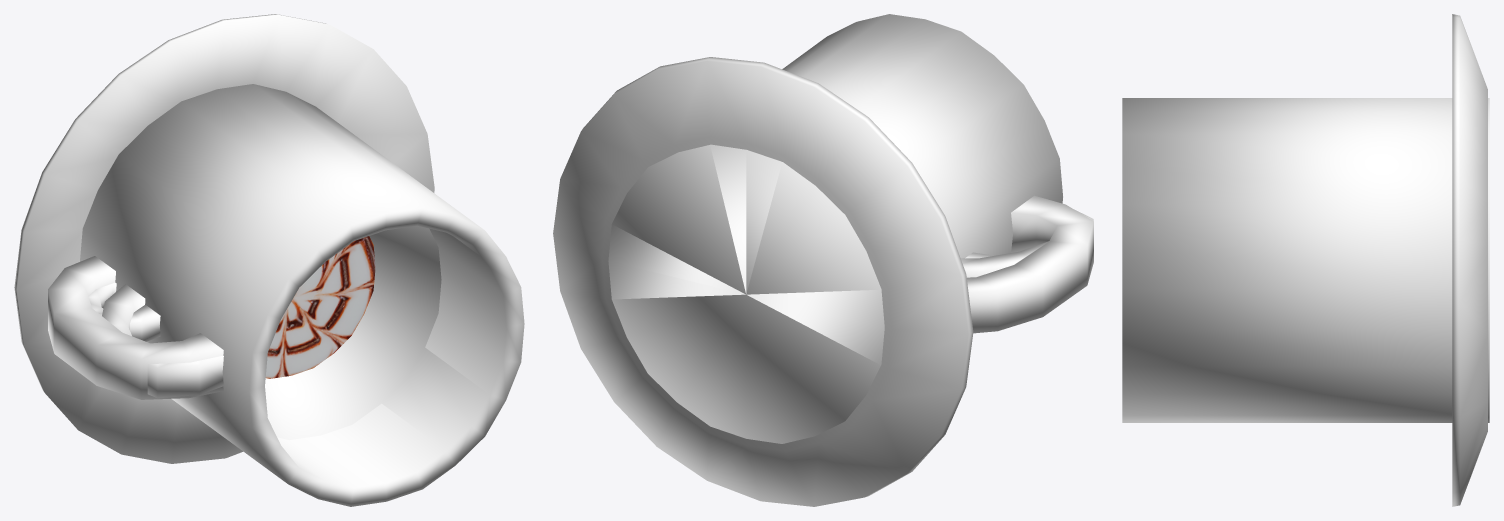
Rendered from coffee-cups-low-poly-e1ba83.glb.
The picture shows the model from 3 angles, left to right: view 1: azimuth 30°, elevation 25°; view 2: azimuth 150°, elevation 25°; view 3: azimuth 270°, elevation 25°; orthographic projection. The views are drawn at different scales.
Visible parts, largest first — view 1: PropMesh; view 2: PropMesh; view 3: PropMesh.
Boxes of the visible parts, x1=… form: PropMesh: x1=14, y1=14, x2=524, y2=506; PropMesh: x1=553, y1=14, x2=1093, y2=506; PropMesh: x1=1122, y1=14, x2=1489, y2=506.
Size of the model in its own units: 0.3643 by 0.35 by 0.26.
3 materials, 3 textured.
